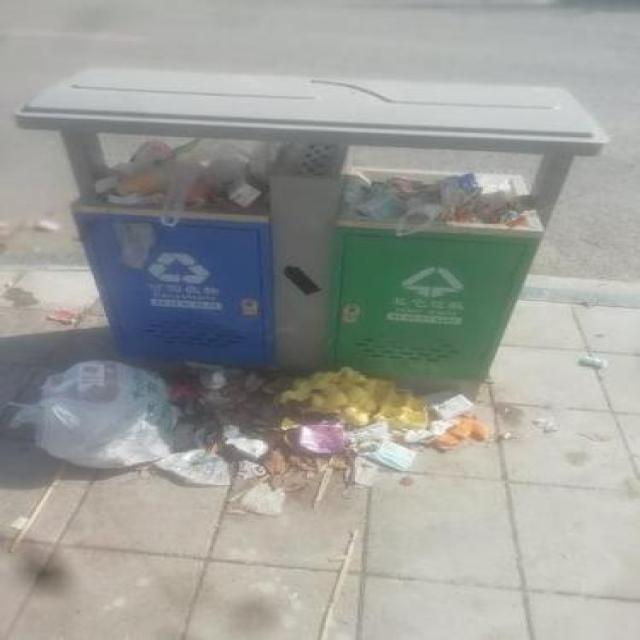garbage: (0, 358, 515, 519)
overflow: (14, 68, 604, 378)
